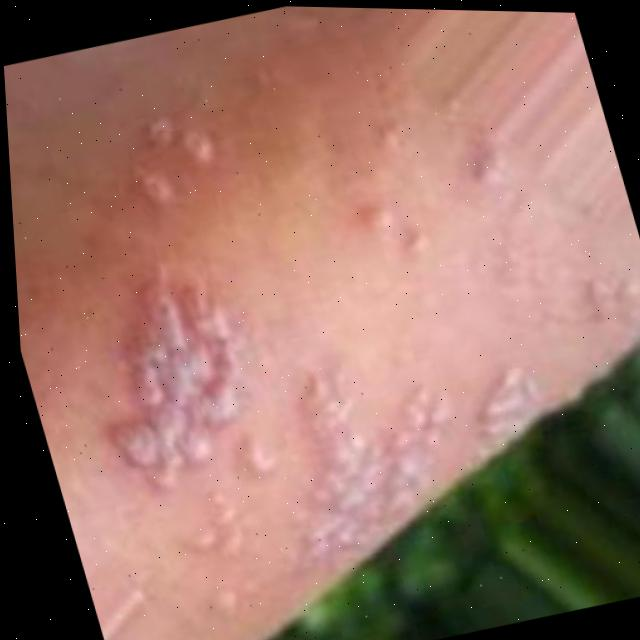Shingles: (234, 339, 494, 593), (61, 250, 281, 505), (446, 355, 558, 468), (113, 107, 227, 213)
